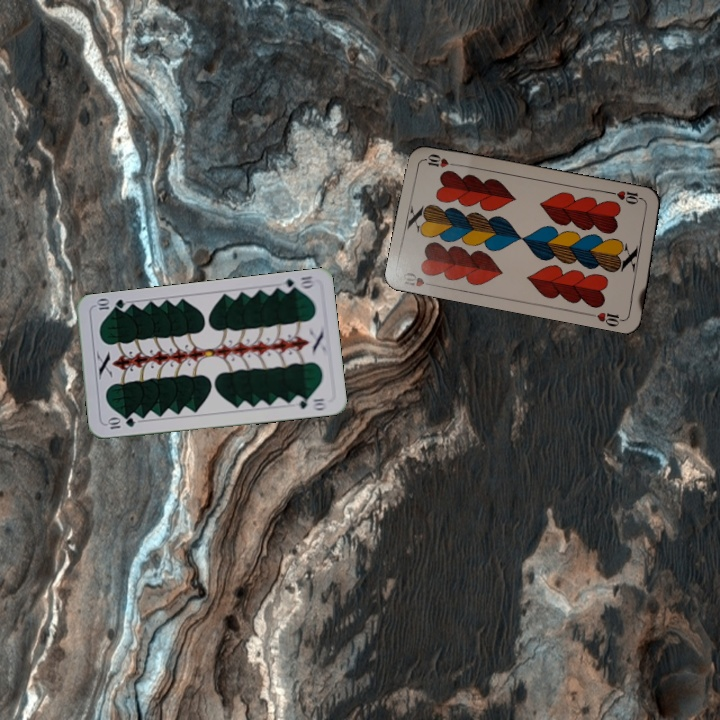G10: (277, 272, 317, 295), (103, 414, 138, 432)
H10: (398, 268, 439, 289), (607, 186, 647, 207)
